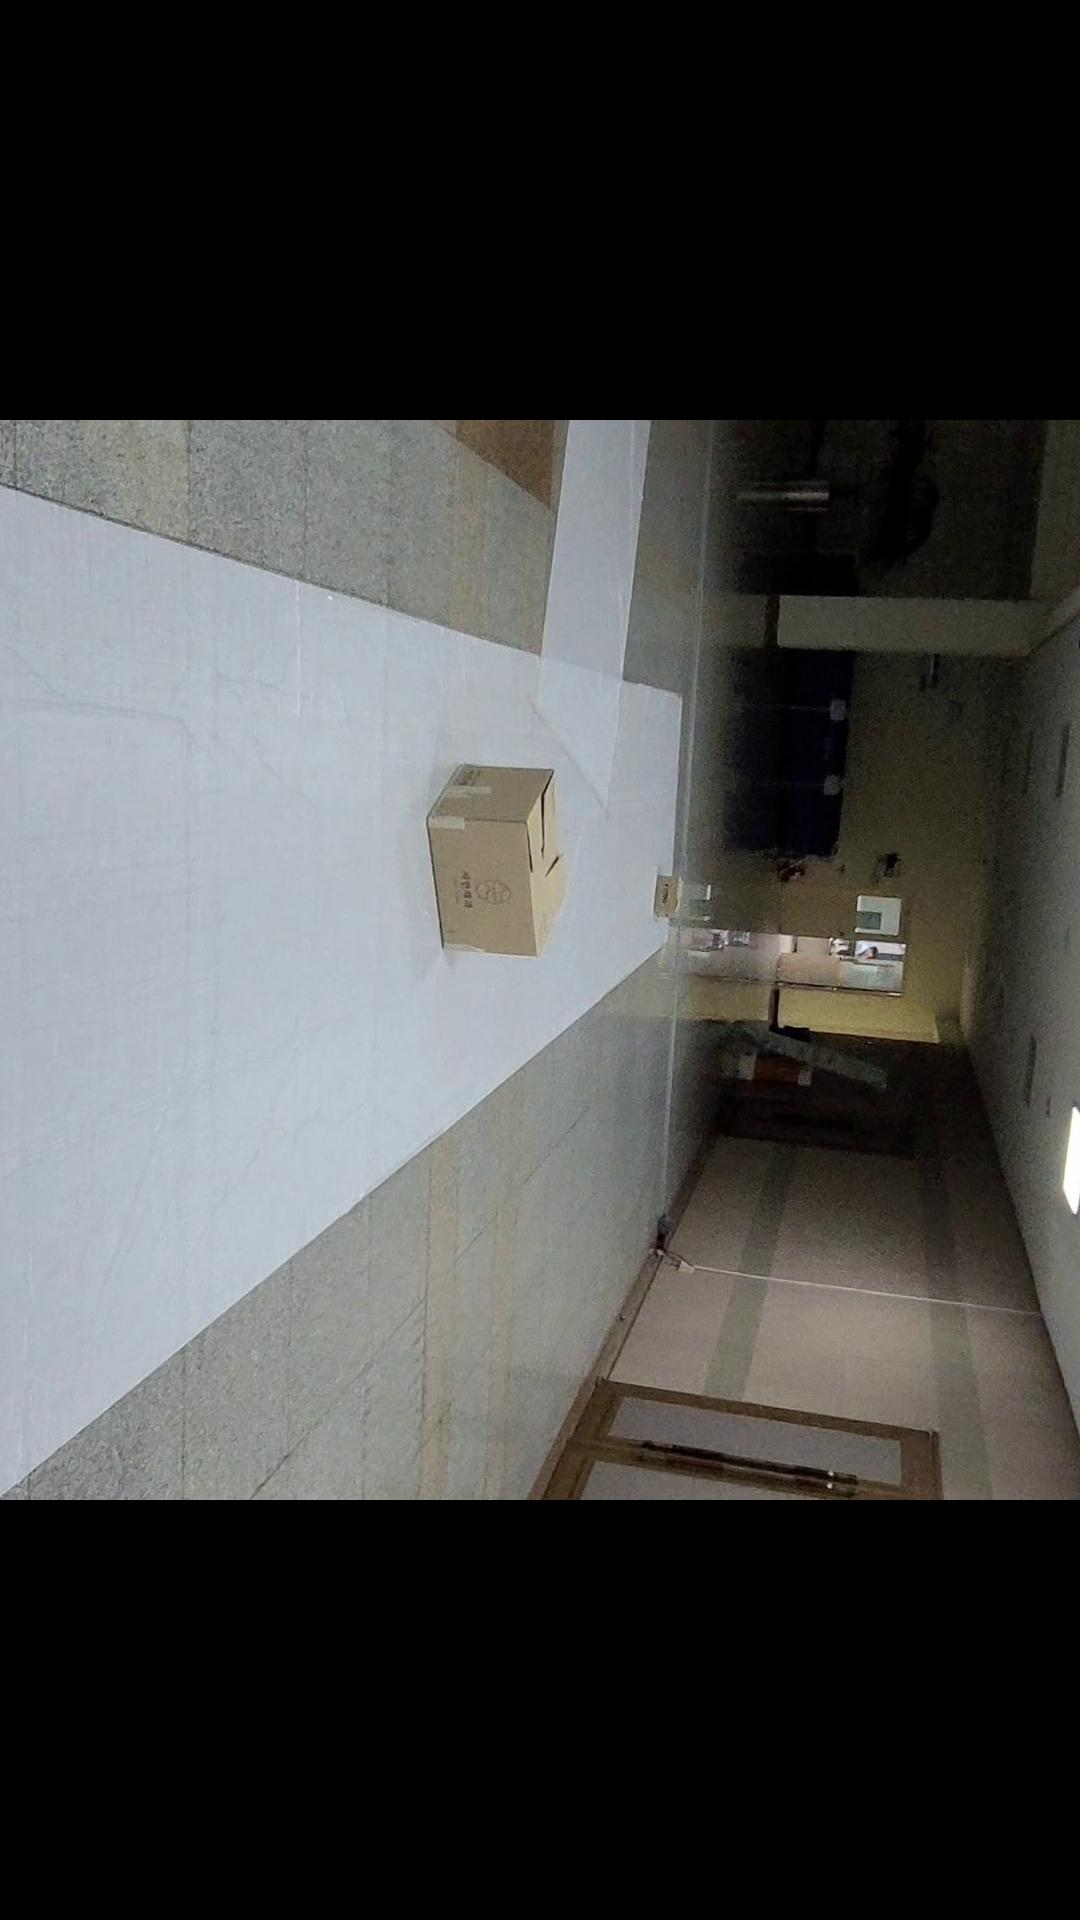Box: (400, 741, 580, 990), (640, 853, 715, 955)
